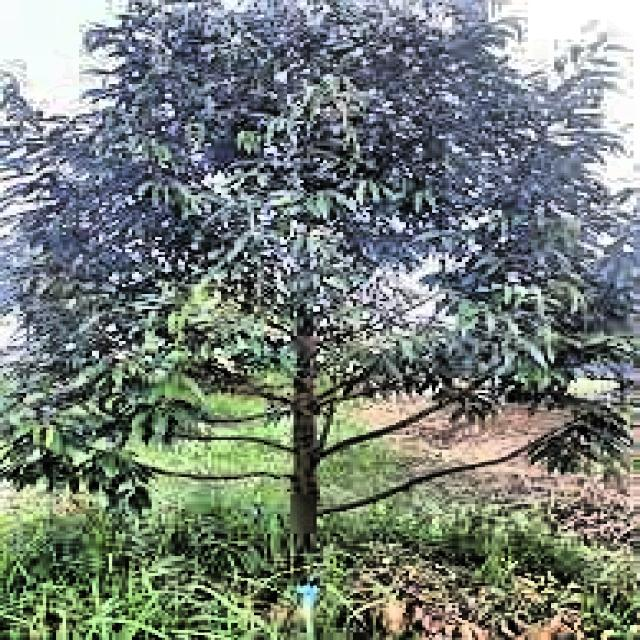arvore: (266, 252, 346, 565)
